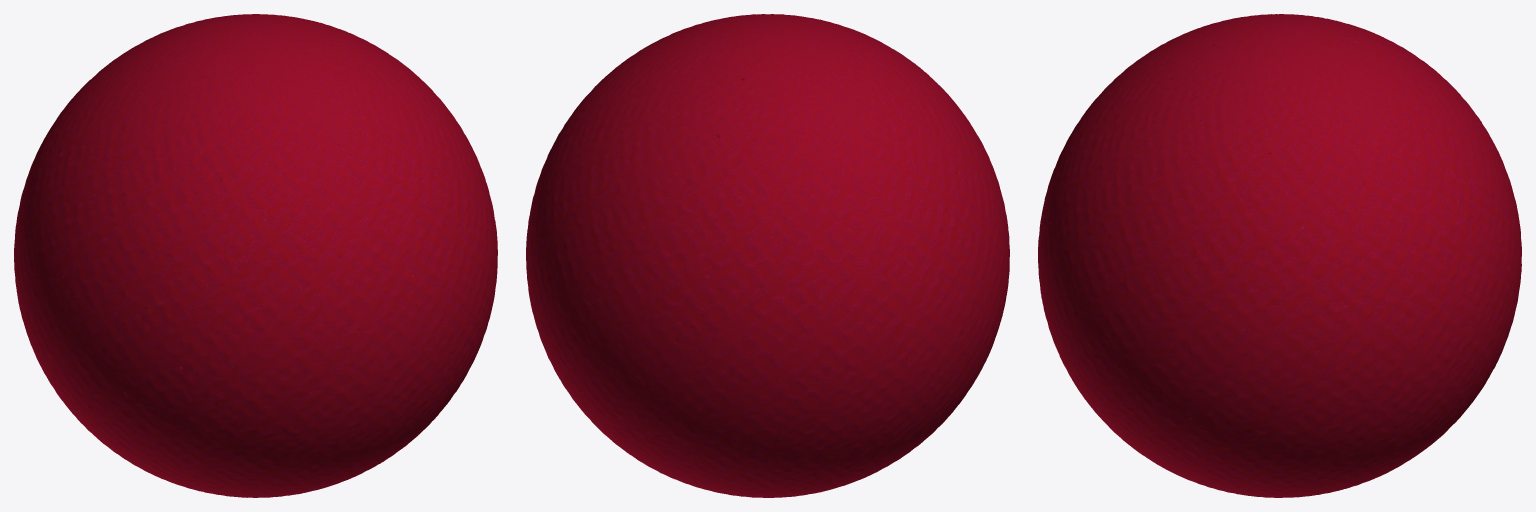
File: quatrefoil_jacquard_fabric_2k.gltf
The picture shows the model from 3 angles, left to right: view 1: azimuth 30°, elevation 25°; view 2: azimuth 150°, elevation 25°; view 3: azimuth 270°, elevation 25°; orthographic projection.
Visible parts, largest first — view 1: sphere_gltf; view 2: sphere_gltf; view 3: sphere_gltf.
Boxes of the visible parts, left/top/right/bottom form: sphere_gltf: left=14, top=14, right=497, bottom=497; sphere_gltf: left=526, top=14, right=1009, bottom=497; sphere_gltf: left=1038, top=14, right=1521, bottom=497.
Bounding box in the file's own units: 0.284 × 0.2839 × 0.2839.
